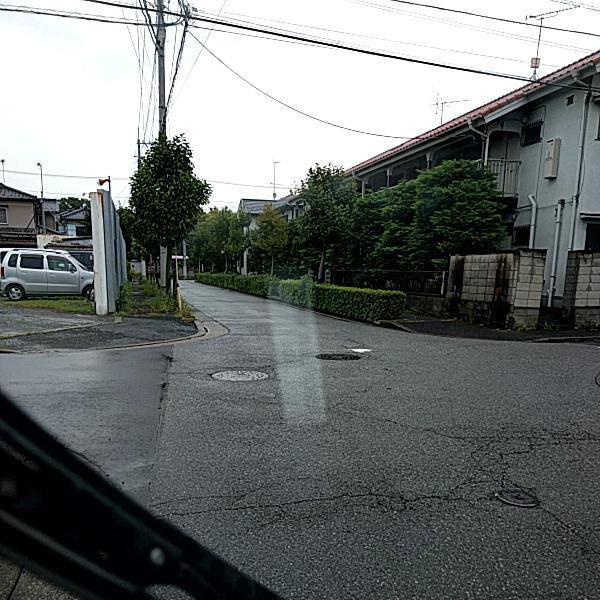D10: (264, 397, 468, 440)
D20: (178, 404, 595, 527)
D50: (210, 369, 269, 384), (496, 487, 537, 507), (312, 349, 361, 359)
